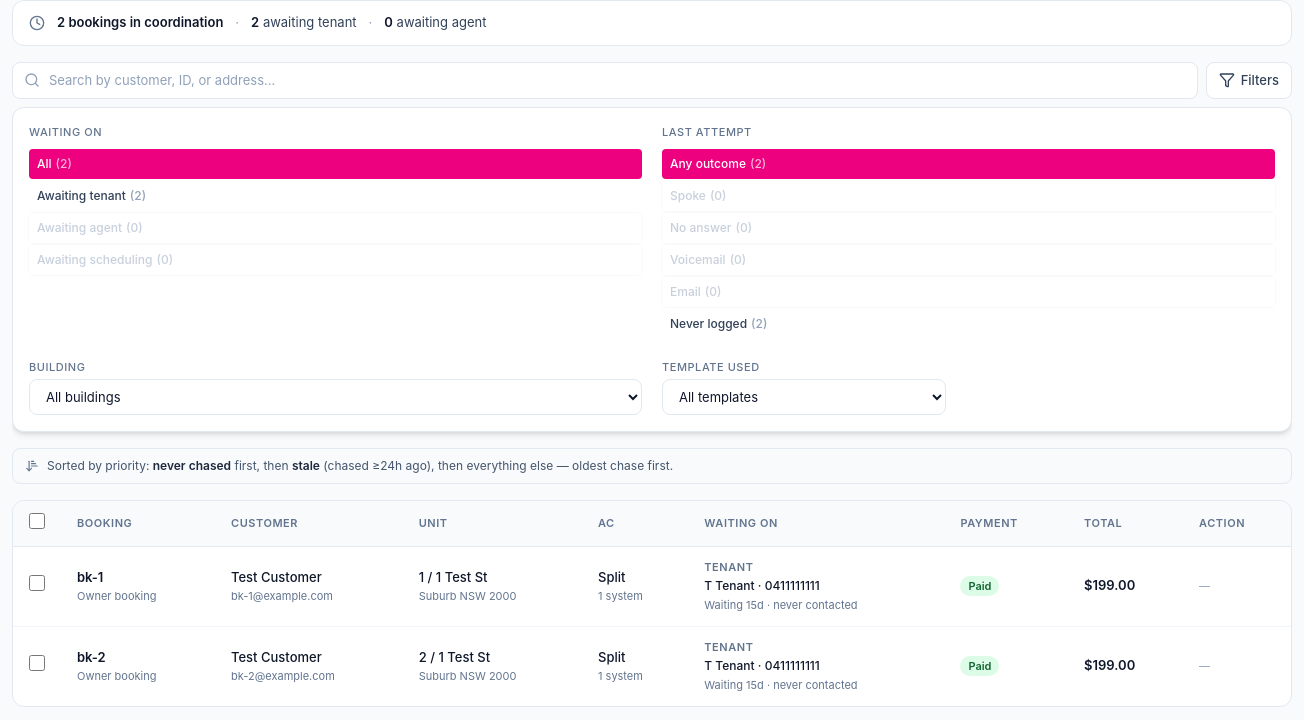
AwaitingCoordinationView · bulk template picker keyboard nav › Space on the highlighted option also commits the selection
Step 1. Click the checkbox with test id "checkbox-coordination-row-bk-1" → (37, 583), box 29,575 -> 45,591
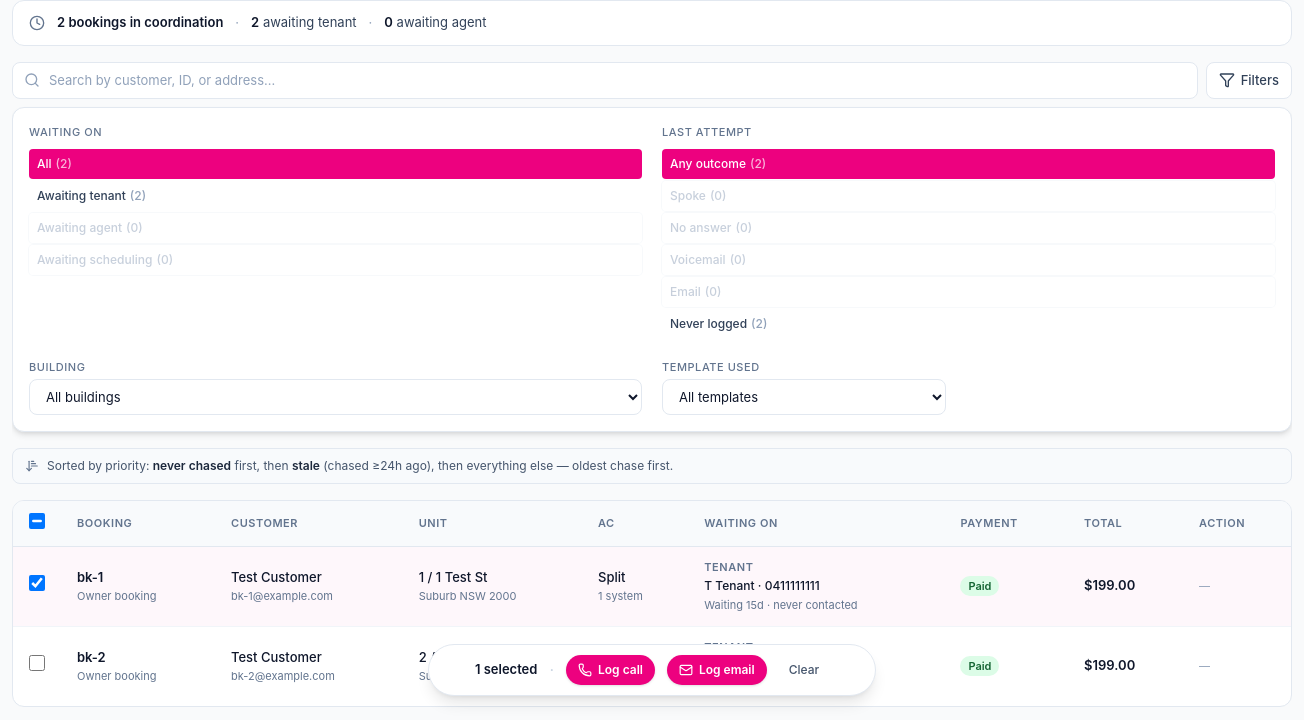
Step 2. Click the checkbox with test id "checkbox-coordination-row-bk-2" → (37, 663), box 29,655 -> 45,671
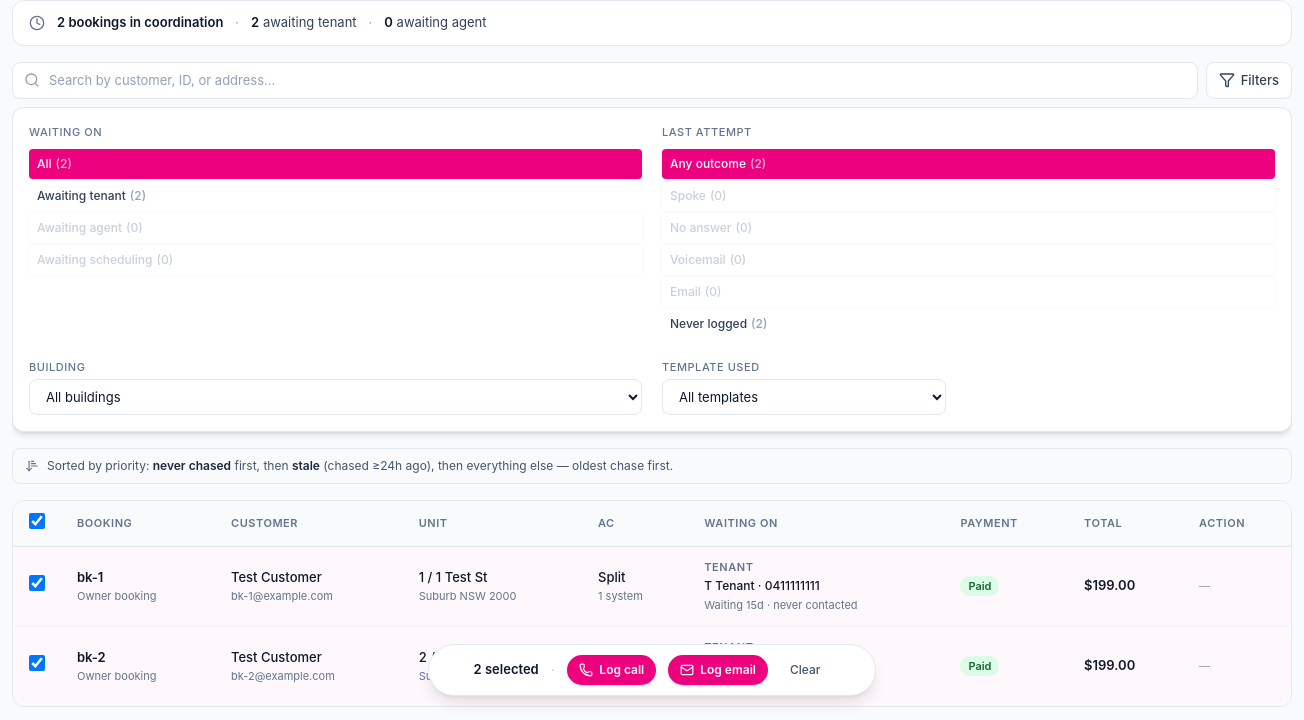
Step 3. Click the button with test id "button-bulk-log-call" → (612, 670), box 567,655 -> 656,685
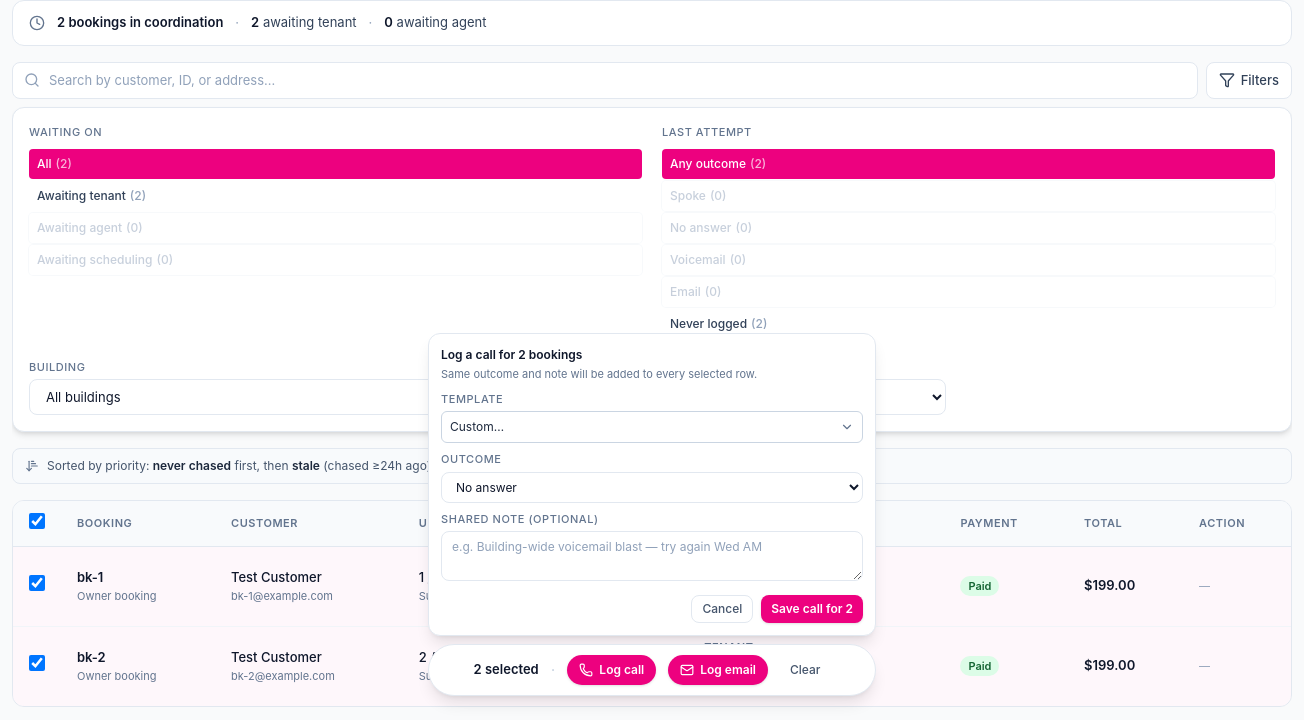
Step 4. Press ArrowDown in the button with test id "trigger-bulk-call-template", box 441,411 -> 863,443
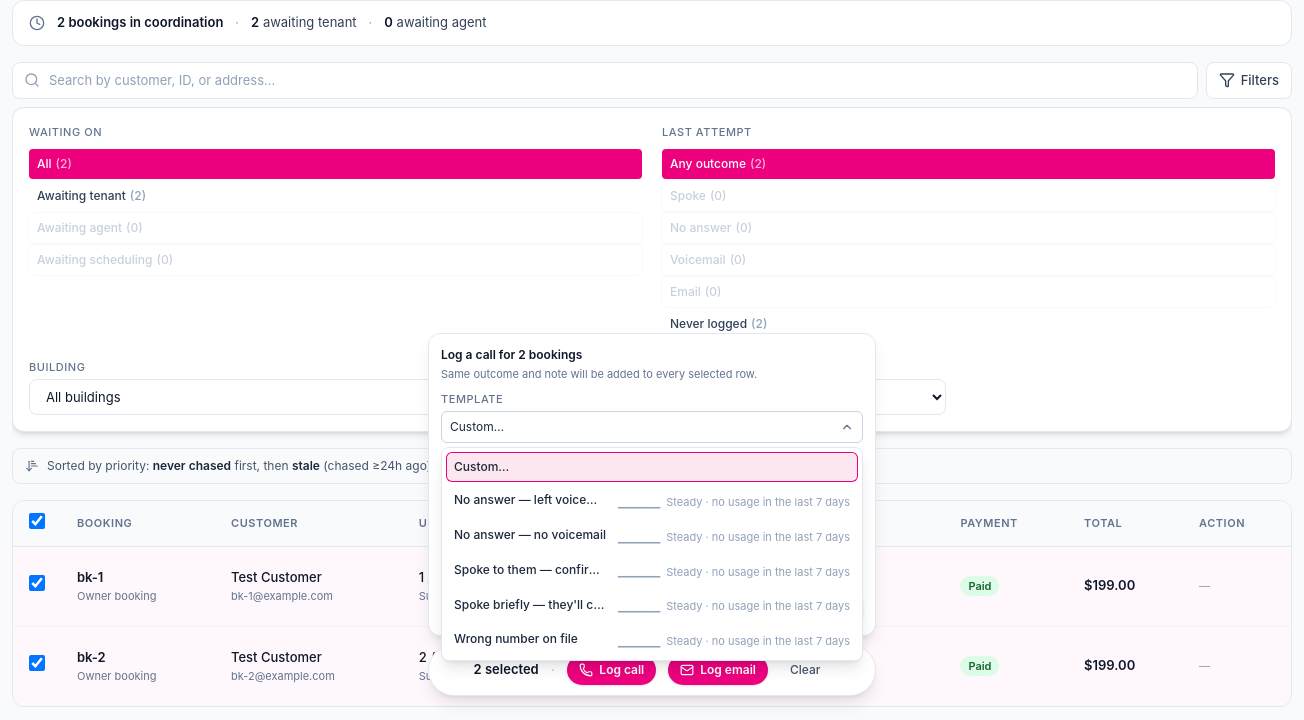
Step 5. Press End in the list with test id "option-bulk-call-template-listbox", box 441,447 -> 863,661
Step 6. Press Space in the list with test id "option-bulk-call-template-listbox", box 441,447 -> 863,661
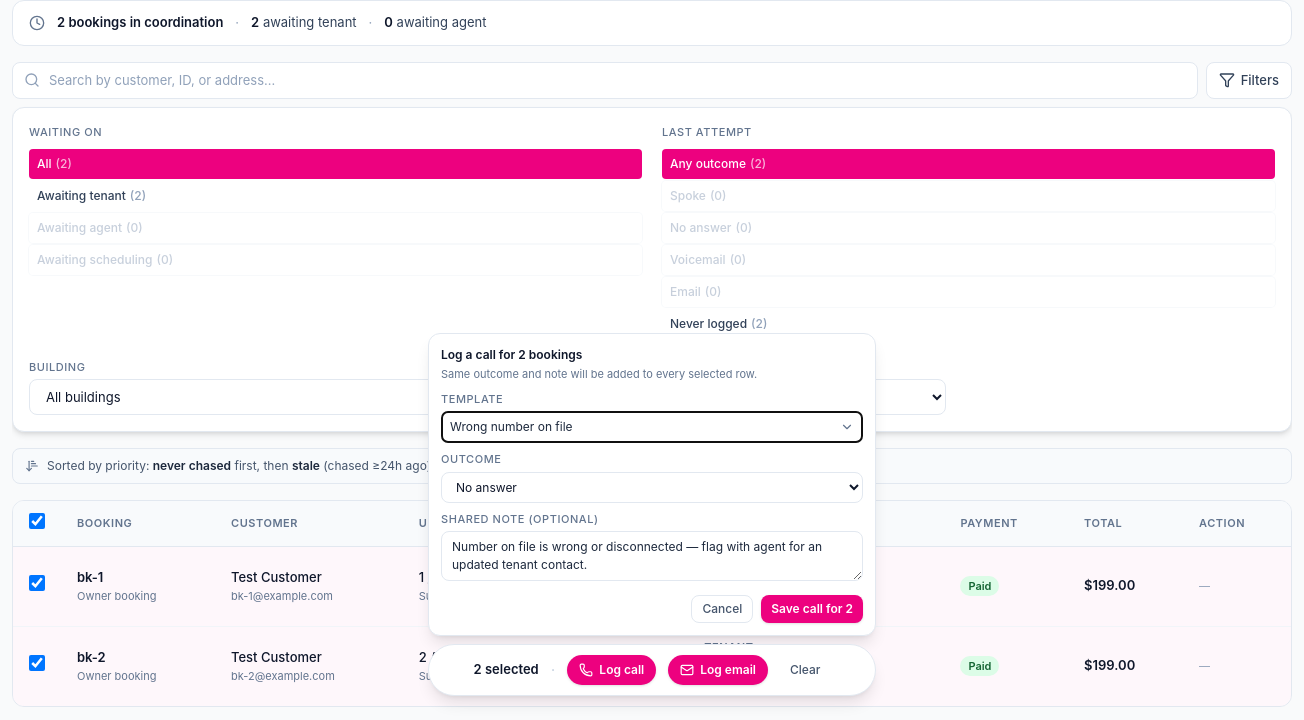
Now the label with test id "select-bulk-call-template" holds "wrong_number", box 441,392 -> 503,406
Now the list with test id "option-bulk-call-template-listbox" is gone
